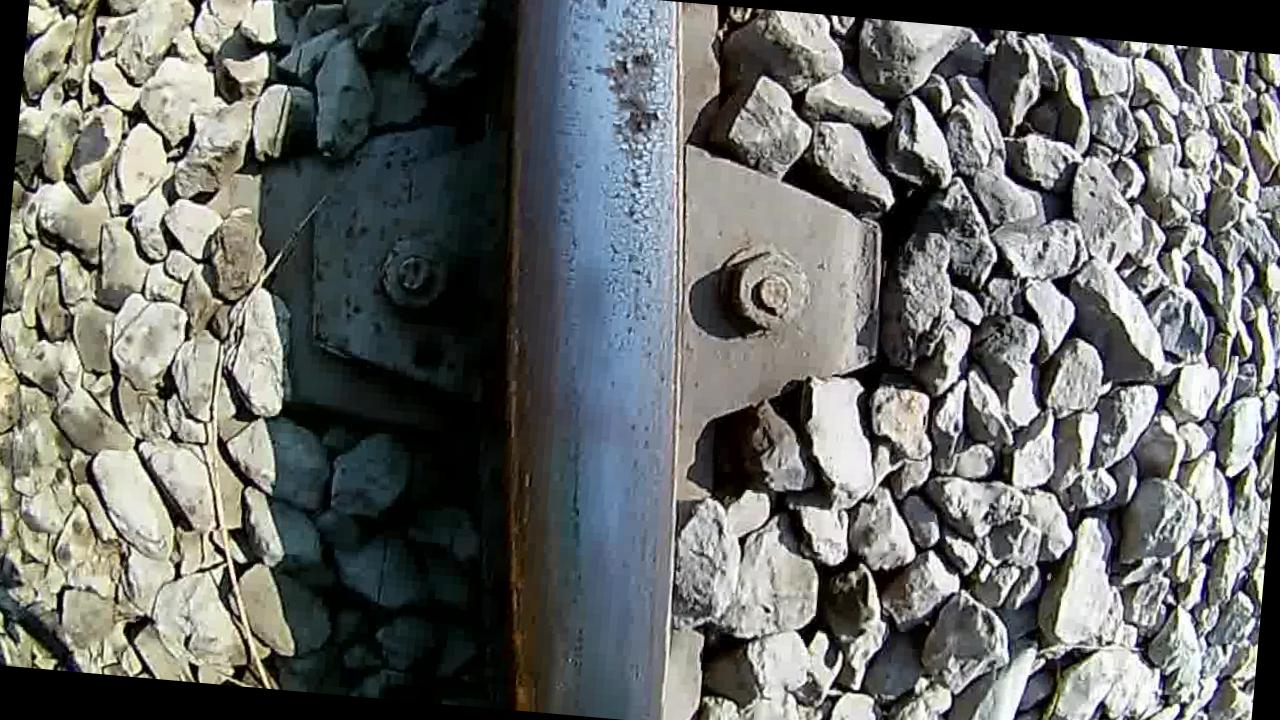crack: (463, 0, 718, 720)
